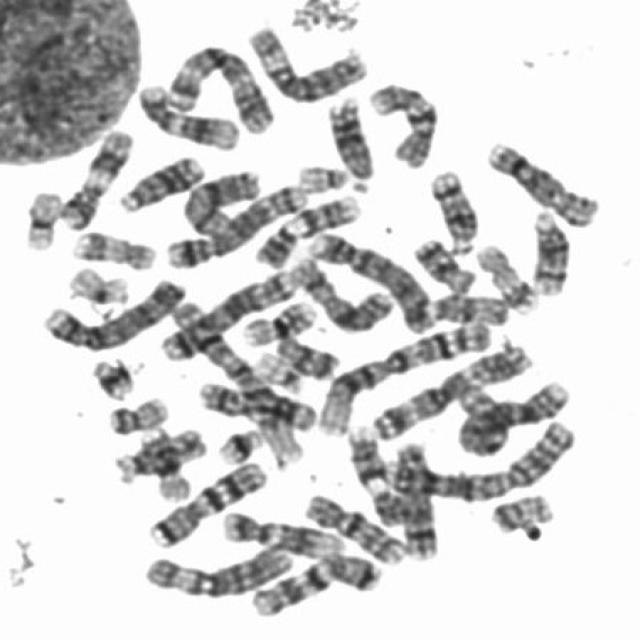A1: (159, 290, 309, 468), (310, 314, 496, 438)
A2: (378, 412, 579, 501), (448, 369, 576, 458)
A3: (361, 336, 535, 440), (156, 35, 278, 135)
B4: (300, 223, 438, 335), (33, 269, 189, 354)
B5: (154, 259, 300, 362), (158, 175, 310, 271)
C10: (296, 486, 408, 566), (360, 73, 441, 169)
C11: (51, 121, 135, 231), (191, 373, 320, 434)
C12: (128, 75, 243, 152), (213, 503, 346, 559)
C6: (238, 17, 371, 104), (134, 536, 296, 600)
C7: (141, 452, 269, 549), (242, 545, 387, 618)
C8: (478, 133, 601, 229), (386, 434, 442, 561)
C9: (249, 186, 364, 269), (340, 417, 412, 528)
D13: (110, 147, 206, 214), (320, 90, 378, 183)
D14: (421, 161, 481, 256), (522, 201, 573, 296)
D15: (105, 420, 209, 484), (424, 283, 512, 327)
E16: (131, 420, 195, 503), (235, 291, 320, 348)
E17: (468, 234, 540, 316), (64, 222, 159, 272)
E18: (406, 229, 480, 296), (267, 326, 340, 380)
F19: (15, 182, 66, 252), (60, 258, 134, 306)
F20: (482, 486, 556, 534), (100, 388, 172, 435)
G21: (82, 349, 138, 402), (209, 419, 266, 466)
G22: (248, 344, 307, 394), (289, 156, 351, 193)
X: (283, 250, 397, 333), (173, 160, 264, 238)
